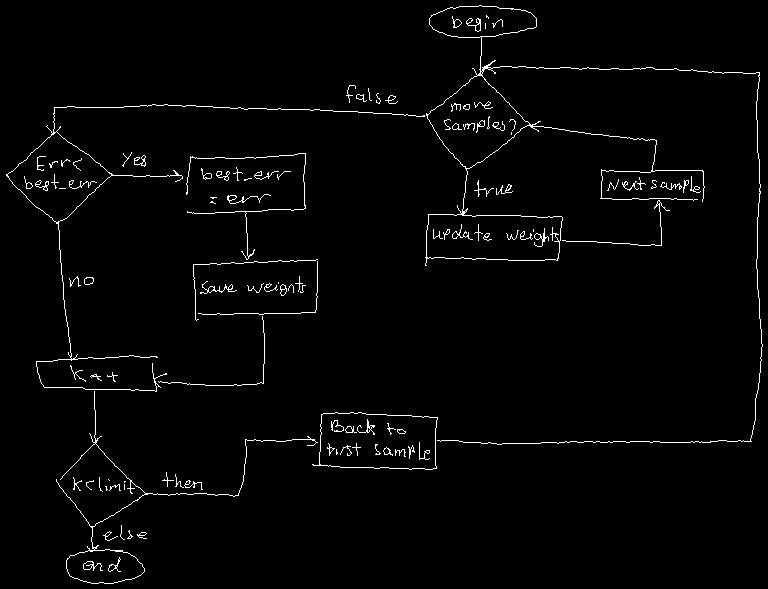arrow: (437, 60, 762, 444), (46, 104, 424, 134), (146, 436, 317, 496), (154, 316, 264, 387), (530, 121, 656, 170), (562, 200, 669, 245), (58, 221, 77, 360), (112, 170, 182, 181), (89, 391, 101, 442), (241, 212, 254, 259), (457, 166, 467, 214), (472, 36, 484, 75), (87, 526, 98, 551), (510, 132, 513, 135)
decision: (426, 74, 530, 168), (6, 132, 113, 223), (56, 442, 146, 527)
process: (193, 259, 317, 320), (186, 153, 305, 213), (312, 412, 437, 469), (425, 214, 562, 265), (36, 355, 157, 391), (600, 169, 704, 201)
terminator: (429, 5, 536, 37), (66, 549, 144, 583)
text: (327, 419, 429, 459), (201, 167, 290, 203), (433, 224, 558, 246), (24, 156, 96, 190), (444, 101, 515, 132), (200, 276, 305, 295), (607, 176, 700, 192), (73, 477, 134, 493), (346, 85, 397, 103), (452, 15, 502, 31), (70, 365, 117, 381), (162, 472, 202, 489), (103, 525, 146, 540), (474, 180, 512, 196), (83, 557, 120, 571), (122, 152, 145, 166), (69, 276, 93, 286)
